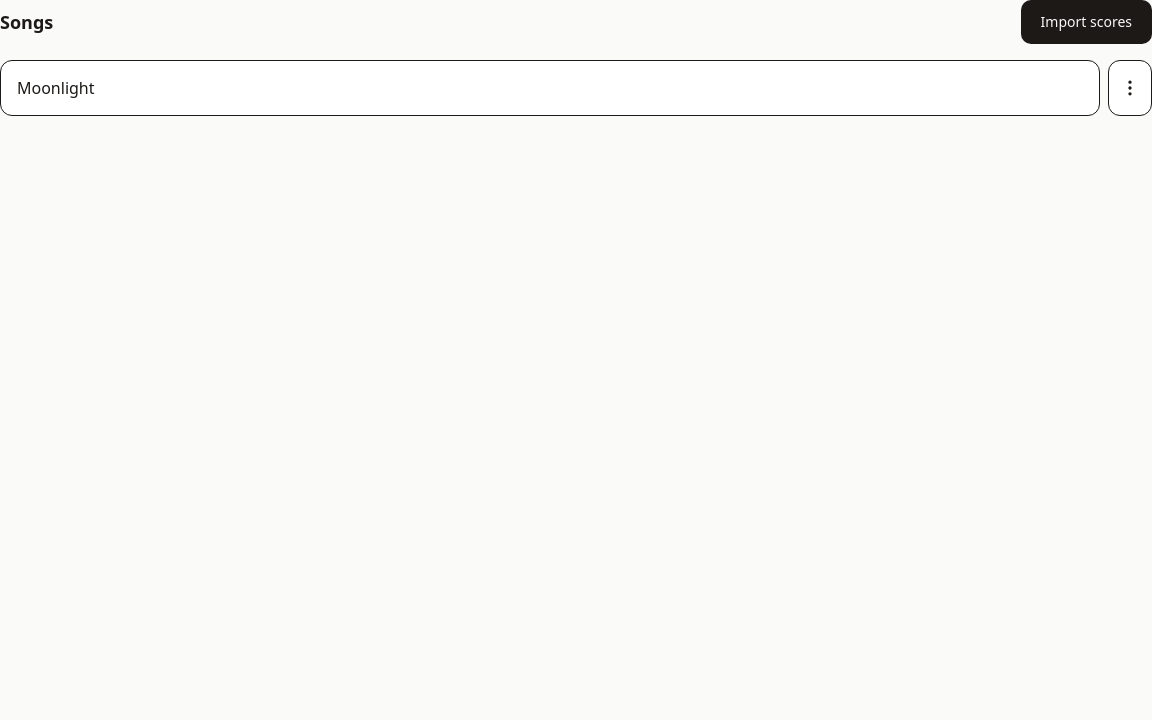
Scenario: deleting from the row menu removes the song only after confirming
Expected: the button "Moonlight" is shown, left=0, top=60, right=1100, bottom=116
Click the button named "Actions for Moonlight". click: (1130, 88)
box: left=1108, top=60, right=1151, bottom=116
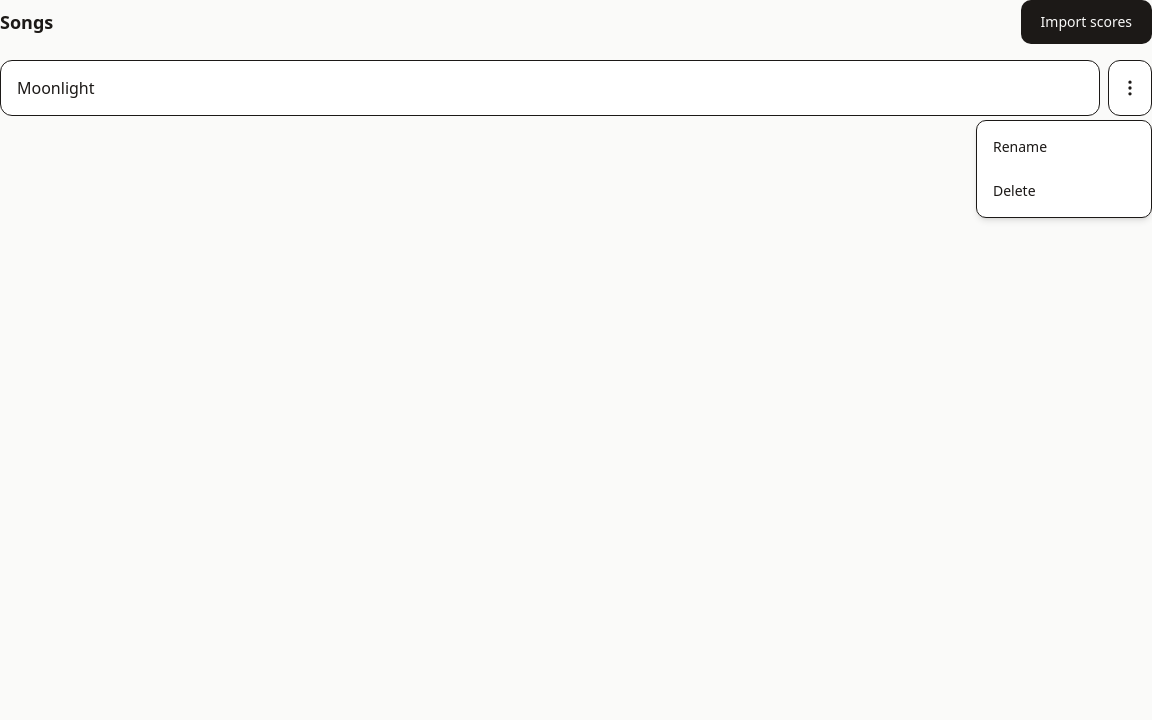
Click the menu item "Delete". click: (1014, 190)
box: left=993, top=181, right=1036, bottom=200
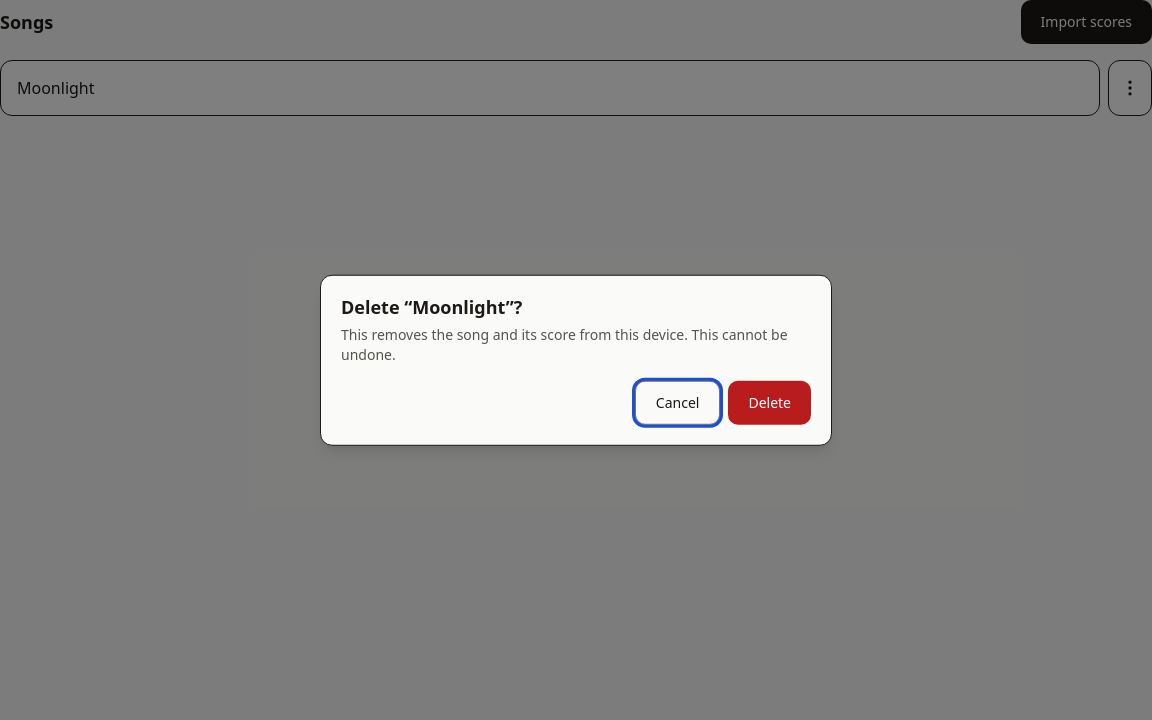
Click the button "Delete". click: (770, 402)
box: left=728, top=380, right=811, bottom=424
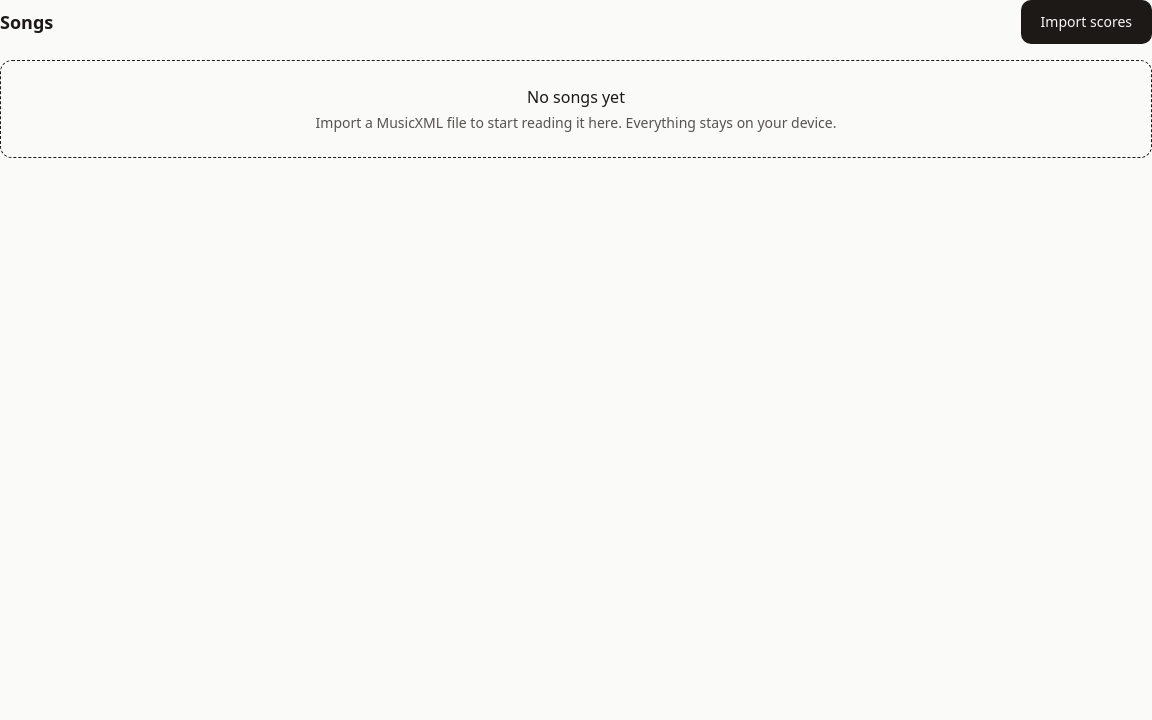
Expected: the button "Moonlight" is gone
Expected: the text "No songs yet" is shown, left=527, top=86, right=625, bottom=108
